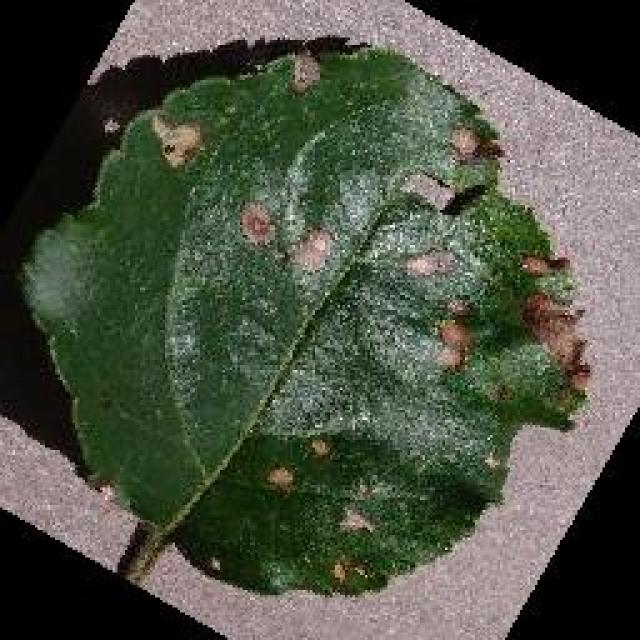Black_rot: (18, 40, 590, 595)
